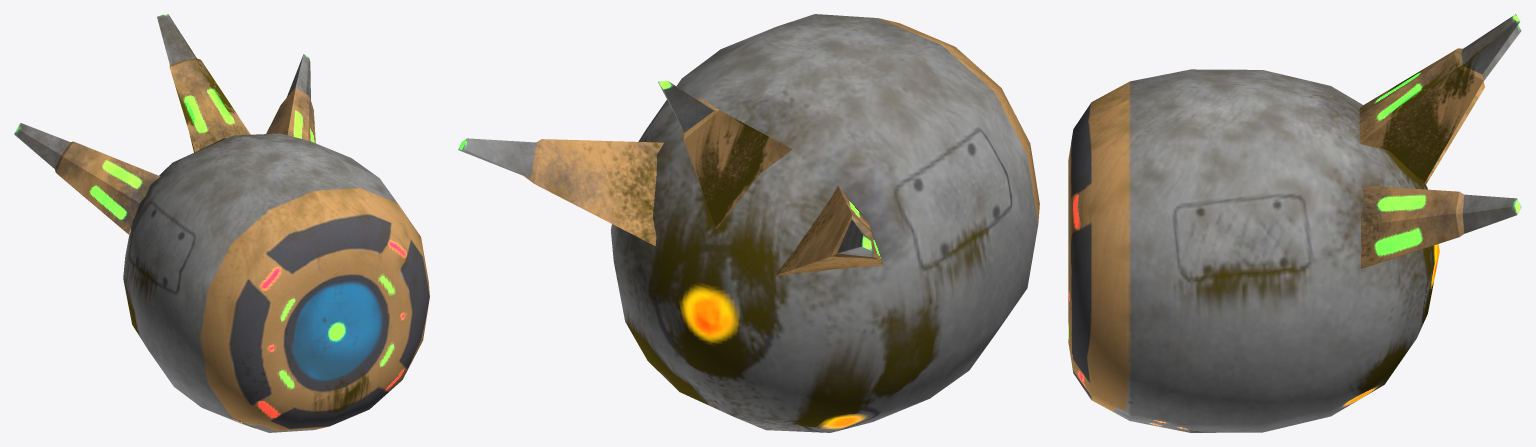
Rendered from 2nd_robotmine_asset_for_a_vr_game.glb.
The picture shows the model from 3 angles, left to right: view 1: azimuth 30°, elevation 25°; view 2: azimuth 150°, elevation 25°; view 3: azimuth 270°, elevation 25°; orthographic projection. The views are drawn at different scales.
Visible parts, largest first — view 1: robot2; view 2: robot2; view 3: robot2.
Boxes of the visible parts, left/top/right/bottom form: robot2: left=14, top=14, right=429, bottom=432; robot2: left=458, top=14, right=1039, bottom=432; robot2: left=1068, top=14, right=1521, bottom=432.
Bounding box in the file's own units: 0.8516 × 0.861 × 0.8878.
1 material, 1 textured.
